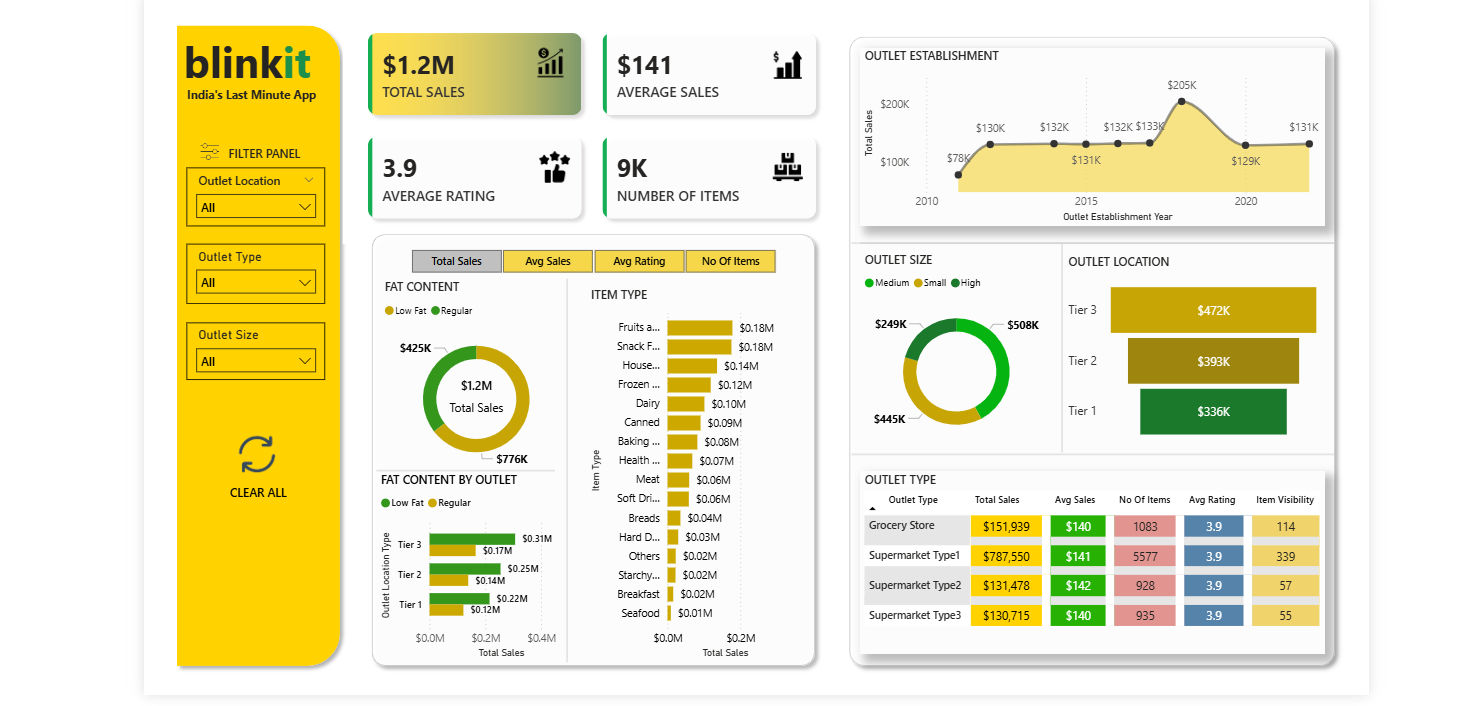

The page's visual inventory and layout, read from the dashboard file:
{"tool":"powerbi","page":{"name":"Page 1","canvas":[1400,800],"ordinal":0},"visuals":[{"type":"shape","box":[28.6,25.7,204.3,750],"z":0},{"type":"textbox","box":[22.5,39,190.6,76.5],"z":1000},{"type":"textbox","box":[33,100.6,180.1,30],"z":2000},{"type":"cardVisual","fields":{"Data":["BlinkIT Grocery Data.Total Sales","BlinkIT Grocery Data.Average Sales","BlinkIT Grocery Data.Average Rating","BlinkIT Grocery Data.Number Of Items"]},"box":[227.1,14.3,570,270],"z":3000},{"type":"image","box":[438.6,60,51.4,34.3],"z":4000},{"type":"image","box":[718.6,60,34.3,40],"z":5000},{"type":"image","box":[448.6,178.6,41.4,35.7],"z":6000},{"type":"image","box":[718.6,178.6,34.3,35.7],"z":7000},{"type":"shape","box":[251.4,264.3,524.3,511.4],"z":8000},{"type":"donutChart","title":"FAT CONTENT","fields":{"Y":["BlinkIT Grocery Data.Total Sales"],"Category":["BlinkIT Grocery Data.Item Fat Content"]},"box":[270,324.3,220,230],"z":9000},{"type":"slicer","fields":{"Values":["metrics.metrics"]},"box":[280,284.3,465.7,40],"z":10000},{"type":"card","fields":{"Values":["BlinkIT Grocery Data.Total Sales"]},"box":[328.6,430,102.9,55.7],"z":11000},{"type":"clusteredBarChart","title":"FAT CONTENT BY OUTLET","fields":{"Y":["BlinkIT Grocery Data.Total Sales"],"Category":["BlinkIT Grocery Data.Outlet Location Type"],"Series":["BlinkIT Grocery Data.Item Fat Content"]},"box":[265.7,544.3,247.1,218.6],"z":12000},{"type":"shape","box":[265.7,504.3,204.3,78.6],"z":12001},{"type":"shape","box":[448.6,324.3,70,438.6],"z":12003},{"type":"barChart","title":"ITEM TYPE","fields":{"Y":["BlinkIT Grocery Data.Total Sales"],"Category":["BlinkIT Grocery Data.Item Type"]},"box":[505.7,332.9,247.1,430],"z":12004},{"type":"shape","box":[797.1,38.6,572.9,737.1],"z":12005},{"type":"lineChart","title":"OUTLET ESTABLISHMENT","fields":{"Category":["BlinkIT Grocery Data.Outlet Establishment Year"],"Y":["BlinkIT Grocery Data.Total Sales"]},"box":[818.6,60,531.4,204.3],"z":12006},{"type":"shape","box":[808.6,244.3,551.4,78.6],"z":12007},{"type":"donutChart","title":"OUTLET SIZE","fields":{"Y":["BlinkIT Grocery Data.Total Sales"],"Category":["BlinkIT Grocery Data.Outlet Size"]},"box":[818.6,292.9,220,230],"z":12008},{"type":"funnel","title":"OUTLET LOCATION","fields":{"Y":["BlinkIT Grocery Data.Total Sales"],"Category":["BlinkIT Grocery Data.Outlet Location Type"]},"box":[1051.4,295.7,298.6,227.1],"z":12009},{"type":"pivotTable","title":"OUTLET TYPE","fields":{"Rows":["BlinkIT Grocery Data.Outlet Type"],"Values":["BlinkIT Grocery Data.Total Sales","BlinkIT Grocery Data.Average Sales","BlinkIT Grocery Data.No Of Items","BlinkIT Grocery Data.Average Rating","Sum(BlinkIT Grocery Data.Item Visibility)"]},"box":[818.6,544.3,531.4,208.6],"z":12010},{"type":"shape","box":[1014.3,284.3,70,238.6],"z":12011},{"type":"shape","box":[808.6,485.7,551.4,78.6],"z":12012},{"type":"slicer","fields":{"Values":["BlinkIT Grocery Data.Outlet Location Type"]},"box":[48.6,197.1,158.6,67.1],"z":12013},{"type":"shape","box":[818.6,244.3,541.4,78.6],"z":12014},{"type":"slicer","fields":{"Values":["BlinkIT Grocery Data.Outlet Type"]},"box":[48.6,284.3,158.6,68.6],"z":12015},{"type":"slicer","fields":{"Values":["BlinkIT Grocery Data.Outlet Size"]},"box":[48.6,374.3,158.6,65.7],"z":12016},{"type":"textbox","box":[84.3,167.1,112.9,30],"z":12017},{"type":"image","box":[84.3,498.6,90,55.7],"z":12018},{"type":"image","box":[48.6,162.9,51.4,31.4],"z":12019},{"type":"textbox","box":[77.1,554.3,107.1,30],"z":12020}]}

Visuals, with their boxes on the page's 1400x800 design canvas (x1, y1, x2, y2). These are canvas units, not pixel positions in the 1465x706 screenshot, which may show the page scaled, cropped or inside an application window:
shape: pyautogui.locateOnScreen(29, 26, 233, 776)
textbox: pyautogui.locateOnScreen(22, 39, 213, 116)
textbox: pyautogui.locateOnScreen(33, 101, 213, 131)
cardVisual - BlinkIT Grocery Data.Total Sales x BlinkIT Grocery Data.Average Sales: pyautogui.locateOnScreen(227, 14, 797, 284)
image: pyautogui.locateOnScreen(439, 60, 490, 94)
image: pyautogui.locateOnScreen(719, 60, 753, 100)
image: pyautogui.locateOnScreen(449, 179, 490, 214)
image: pyautogui.locateOnScreen(719, 179, 753, 214)
shape: pyautogui.locateOnScreen(251, 264, 776, 776)
"FAT CONTENT" donutChart: pyautogui.locateOnScreen(270, 324, 490, 554)
slicer - metrics.metrics: pyautogui.locateOnScreen(280, 284, 746, 324)
card - BlinkIT Grocery Data.Total Sales: pyautogui.locateOnScreen(329, 430, 432, 486)
"FAT CONTENT BY OUTLET" clusteredBarChart: pyautogui.locateOnScreen(266, 544, 513, 763)
shape: pyautogui.locateOnScreen(266, 504, 470, 583)
shape: pyautogui.locateOnScreen(449, 324, 519, 763)
"ITEM TYPE" barChart: pyautogui.locateOnScreen(506, 333, 753, 763)
shape: pyautogui.locateOnScreen(797, 39, 1370, 776)
"OUTLET ESTABLISHMENT" lineChart: pyautogui.locateOnScreen(819, 60, 1350, 264)
shape: pyautogui.locateOnScreen(809, 244, 1360, 323)
"OUTLET SIZE" donutChart: pyautogui.locateOnScreen(819, 293, 1039, 523)
"OUTLET LOCATION" funnel: pyautogui.locateOnScreen(1051, 296, 1350, 523)
"OUTLET TYPE" pivotTable: pyautogui.locateOnScreen(819, 544, 1350, 753)
shape: pyautogui.locateOnScreen(1014, 284, 1084, 523)
shape: pyautogui.locateOnScreen(809, 486, 1360, 564)
slicer - BlinkIT Grocery Data.Outlet Location Type: pyautogui.locateOnScreen(49, 197, 207, 264)
shape: pyautogui.locateOnScreen(819, 244, 1360, 323)
slicer - BlinkIT Grocery Data.Outlet Type: pyautogui.locateOnScreen(49, 284, 207, 353)
slicer - BlinkIT Grocery Data.Outlet Size: pyautogui.locateOnScreen(49, 374, 207, 440)
textbox: pyautogui.locateOnScreen(84, 167, 197, 197)
image: pyautogui.locateOnScreen(84, 499, 174, 554)
image: pyautogui.locateOnScreen(49, 163, 100, 194)
textbox: pyautogui.locateOnScreen(77, 554, 184, 584)
